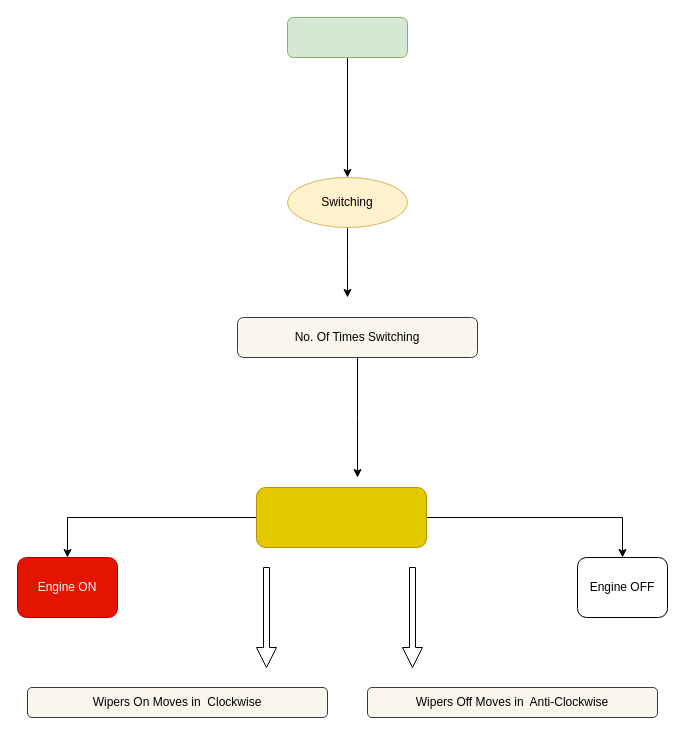
The diagram is 685 pixels wide and 735 high, and some of its shapes have lost their labels. Each missing label, with the centre of its shape:
Conditions: the point at 341,517
Start: the point at 347,37
